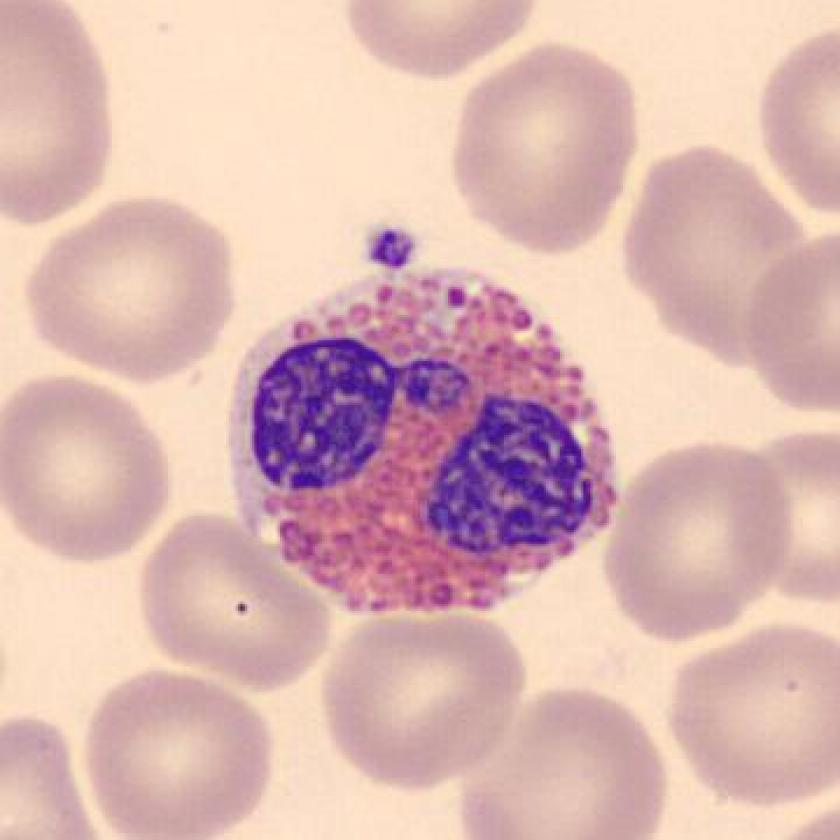eosinophil: (218, 254, 629, 638)
